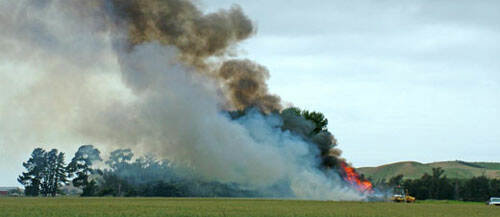smoke: (3, 1, 342, 206)
